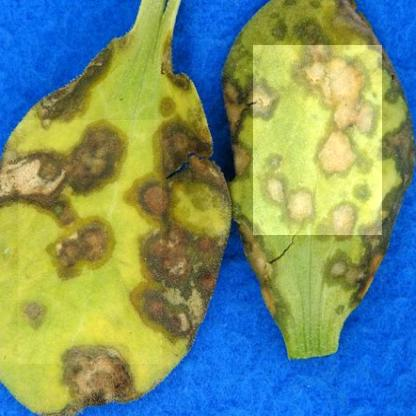black-spot: (18, 120, 162, 364), (253, 45, 382, 235)
